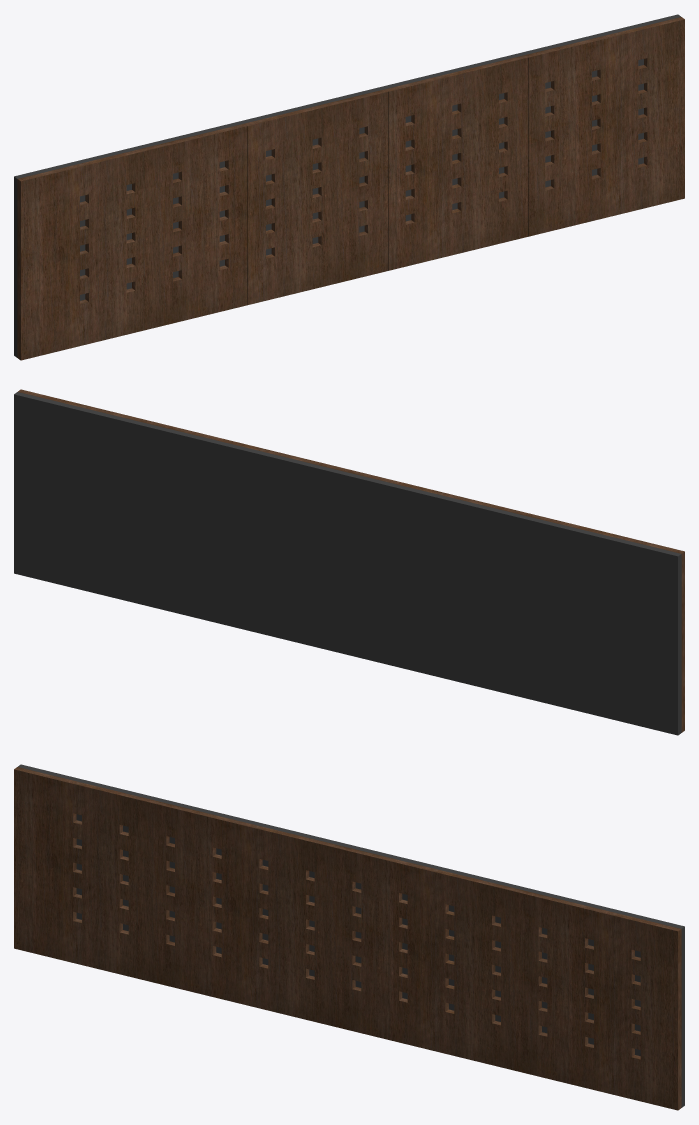
Rendered from wall3.FBX.
3 renders of one model, top to bottom at view 1: azimuth 30°, elevation 25°; view 2: azimuth 150°, elevation 25°; view 3: azimuth 330°, elevation 25°, orthographic.
Visible parts, largest first — view 1: wall3; view 2: wall3; view 3: wall3.
Boxes of the visible parts, x1=… form: wall3: x1=14, y1=14, x2=684, y2=360; wall3: x1=14, y1=389, x2=684, y2=735; wall3: x1=14, y1=764, x2=684, y2=1110.
Size of the model in its own units: 11190 by 202 by 2884.
